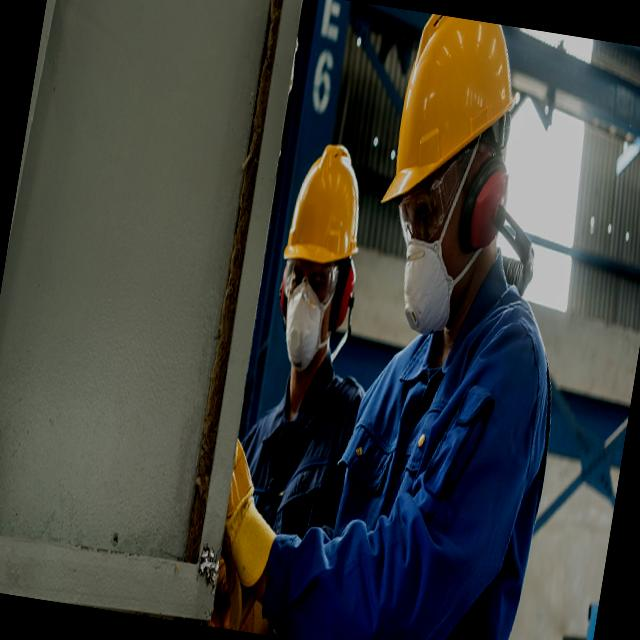goggles: (392, 148, 468, 246), (278, 256, 342, 306)
helmet: (383, 11, 522, 220), (283, 134, 377, 264)
no-vest: (317, 278, 570, 640), (226, 352, 363, 540)
